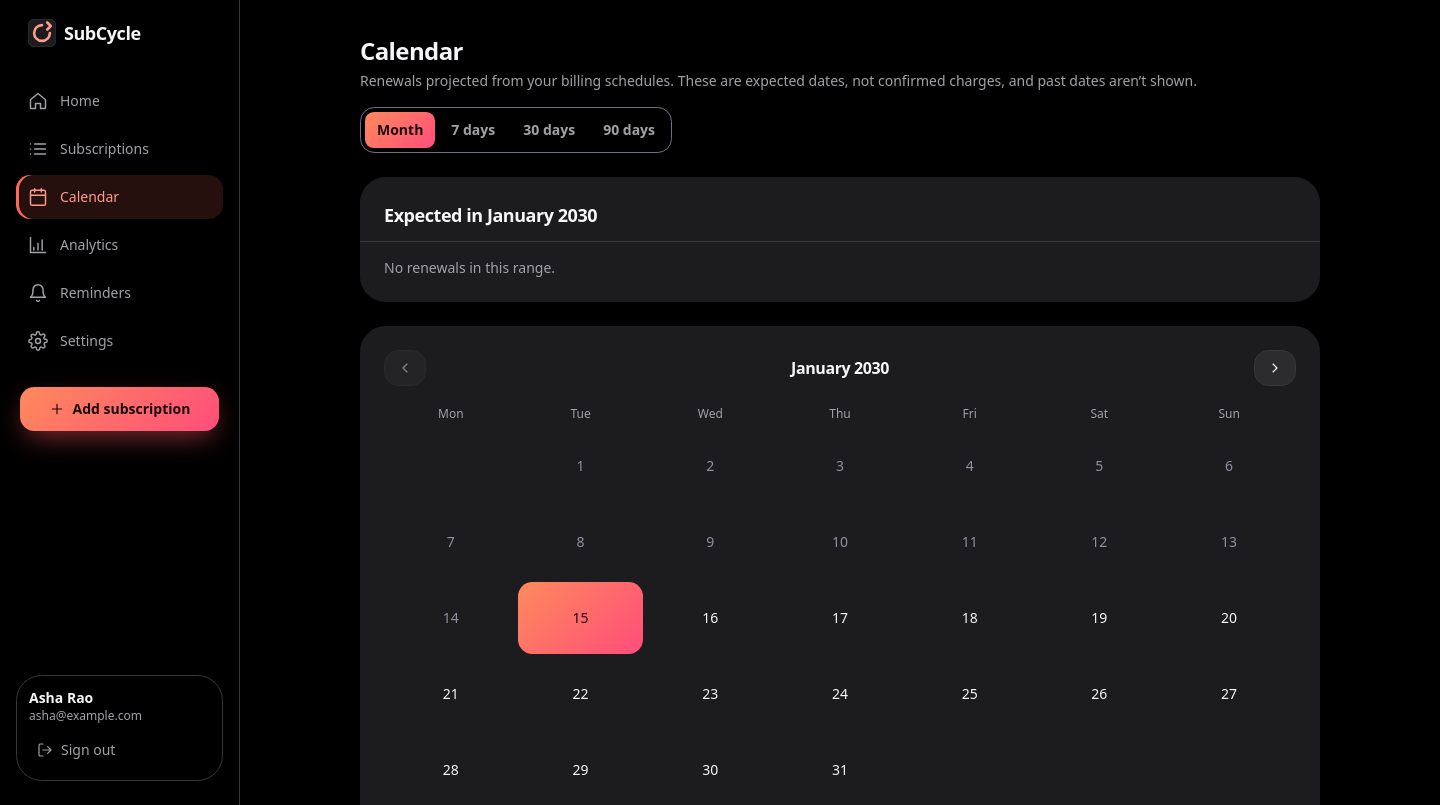
Test case: calendar page › past days say nothing is projected instead of inventing history
The width and height of the screenshot is (1440, 805).
Step 1. Click the button named "past: not projected" → (581, 466), box [518,430,643,502]
(page scrolled)
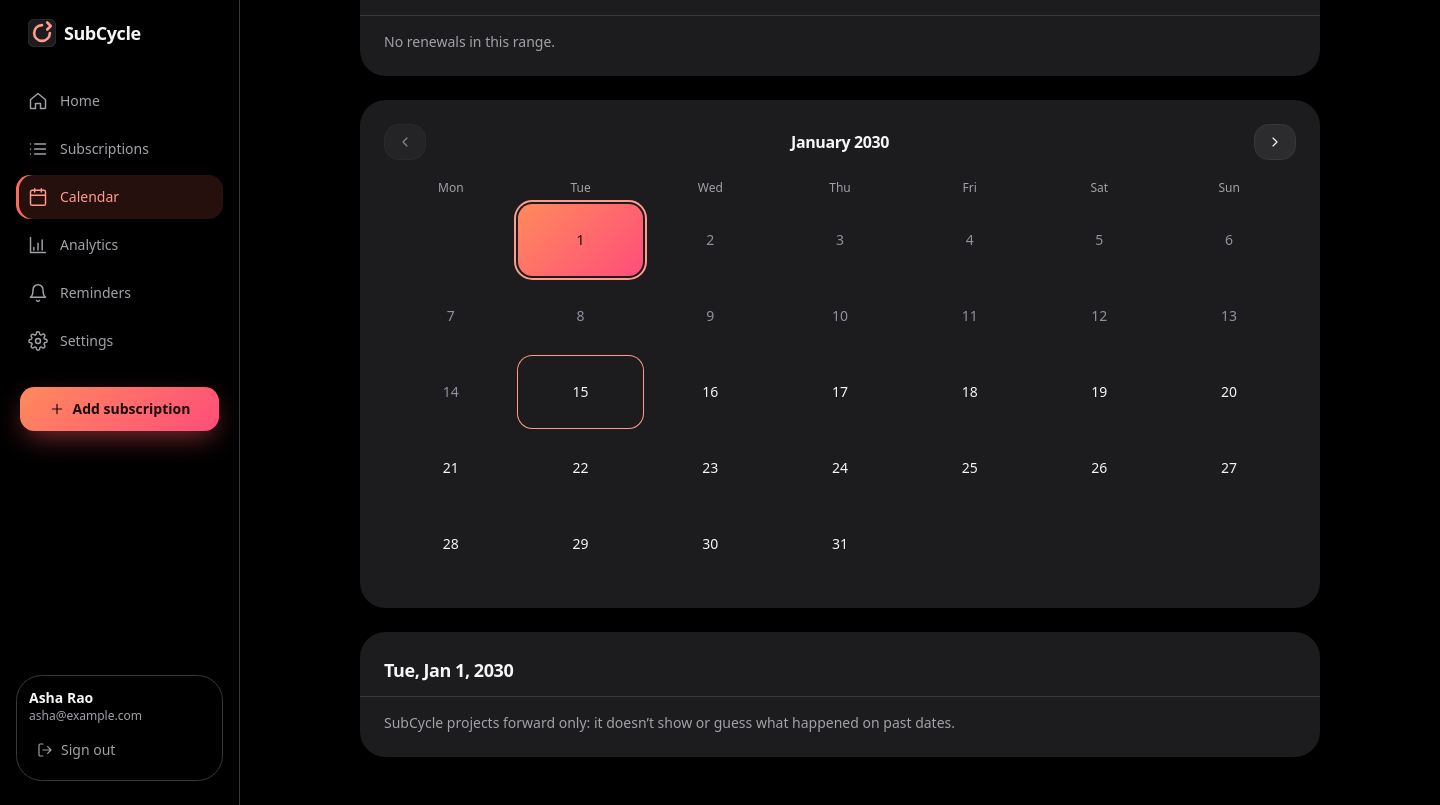
Expected: the text "doesn’t show or guess what happened on past dates" is shown, [384,713,955,732]
